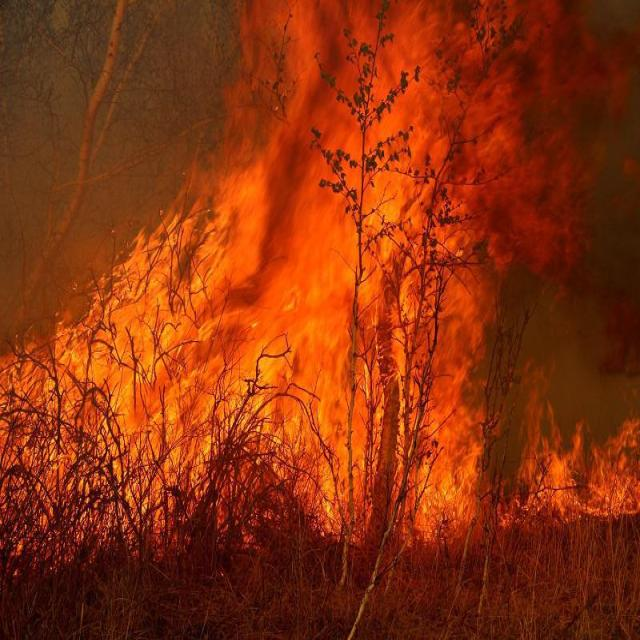fire: (3, 185, 636, 535)
